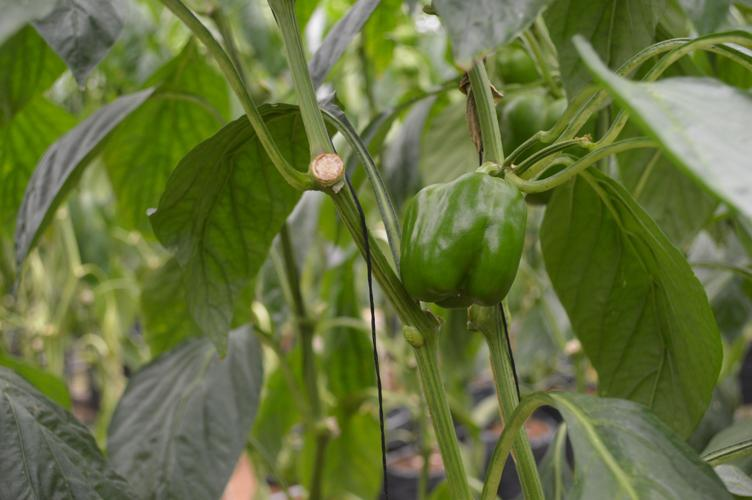BellPepper: (392, 170, 537, 310)
